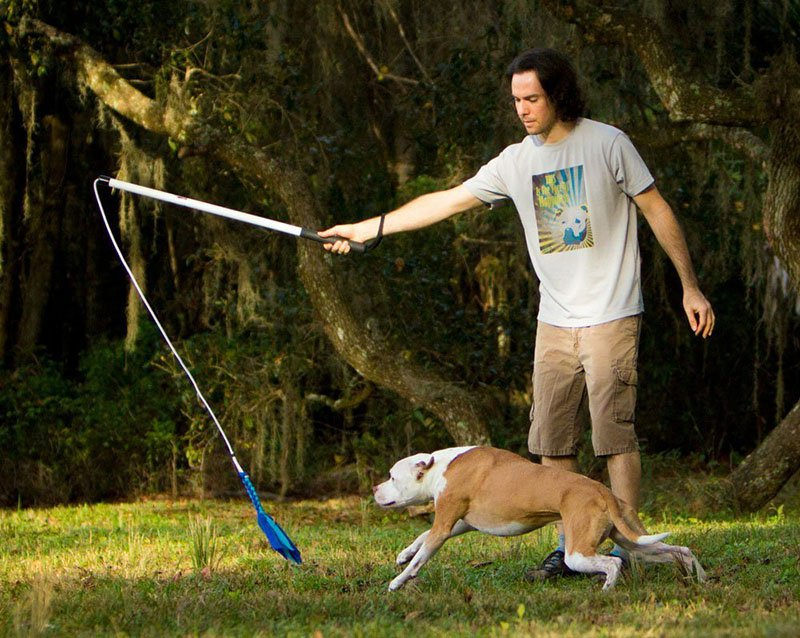dog: (367, 433, 715, 618)
